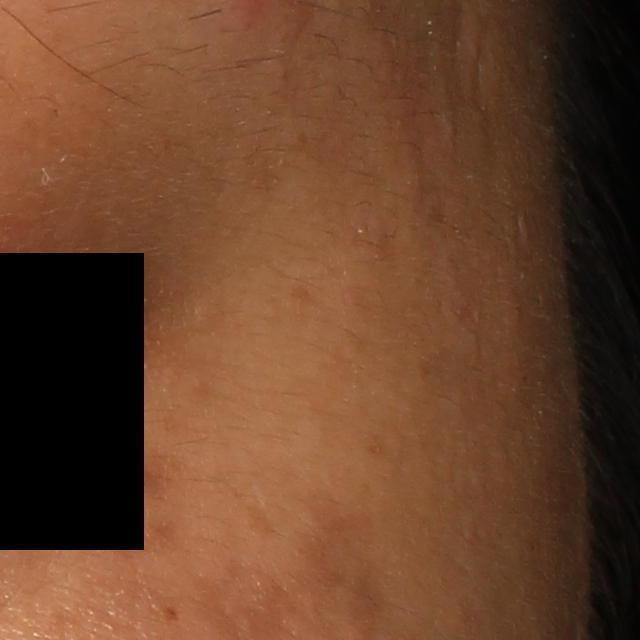melasma: (88, 447, 188, 571), (242, 497, 278, 541)
